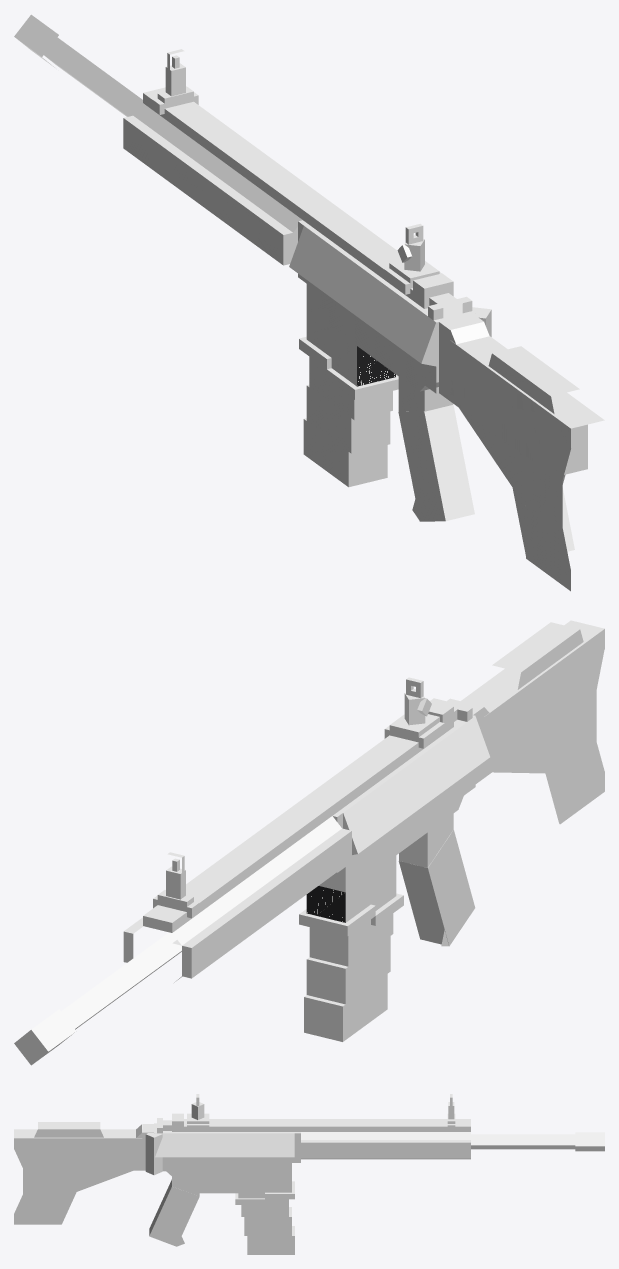
The model's file is aurorasarsenal_sr_25.glb.
3 renders of one model, top to bottom at view 1: azimuth 30°, elevation 25°; view 2: azimuth 150°, elevation 25°; view 3: azimuth 270°, elevation 25°, orthographic. The views are drawn at different scales.
Parts seen in each view (by area): view 1: Gun; view 2: Gun; view 3: Gun.
Part boxes in pixels (x1,y1,x2,y2): Gun: [14, 14, 604, 591]; Gun: [14, 620, 604, 1065]; Gun: [14, 1094, 604, 1254].
Bounding box in the file's own units: 0.0902 × 0.3563 × 1.24.
Materials: 1 (1 with a texture image).
